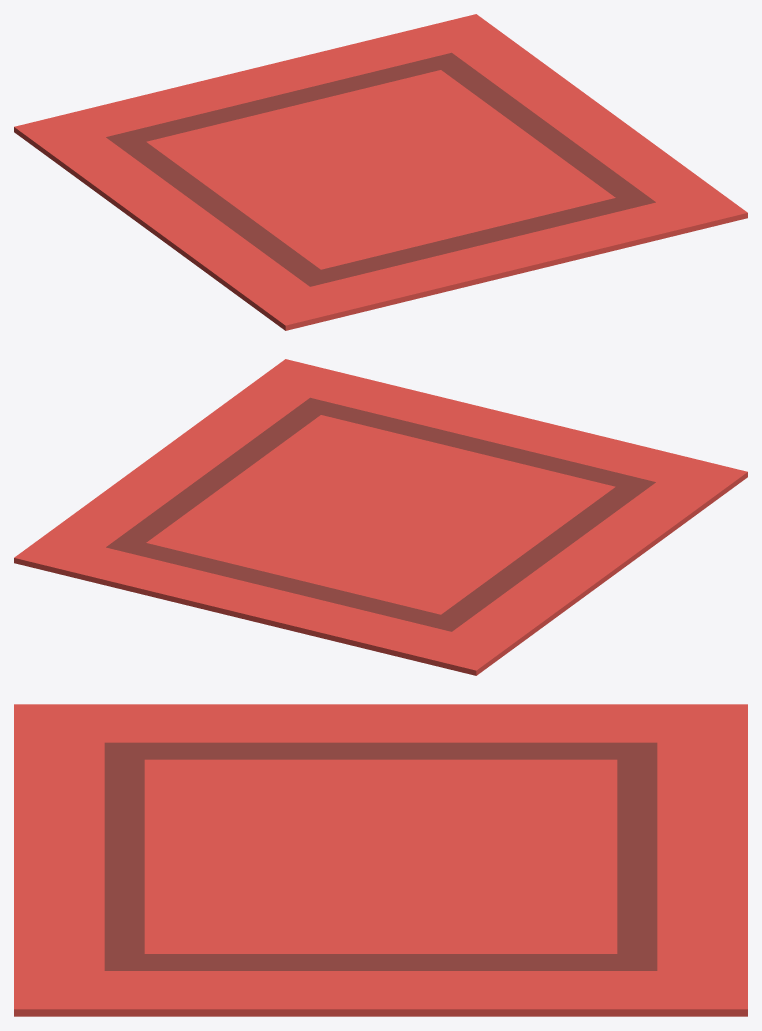
The model's file is Decor_Rug_Square.glb.
The picture shows the model from 3 angles, top to bottom: view 1: azimuth 30°, elevation 25°; view 2: azimuth 150°, elevation 25°; view 3: azimuth 270°, elevation 25°; orthographic projection. The views are drawn at different scales.
Visible parts, largest first — view 1: rugSquare; view 2: rugSquare; view 3: rugSquare.
Part boxes in pixels (bbox=[...]): rugSquare: bbox=[14, 14, 747, 330]; rugSquare: bbox=[14, 359, 747, 675]; rugSquare: bbox=[14, 704, 747, 1016].
Bounding box in the file's own units: 0.9043 × 0.01 × 0.92.
